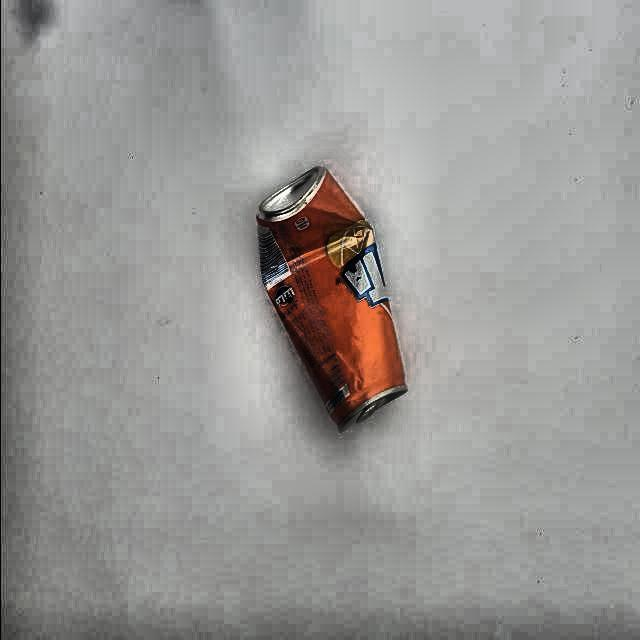metal: (255, 166, 408, 434)
